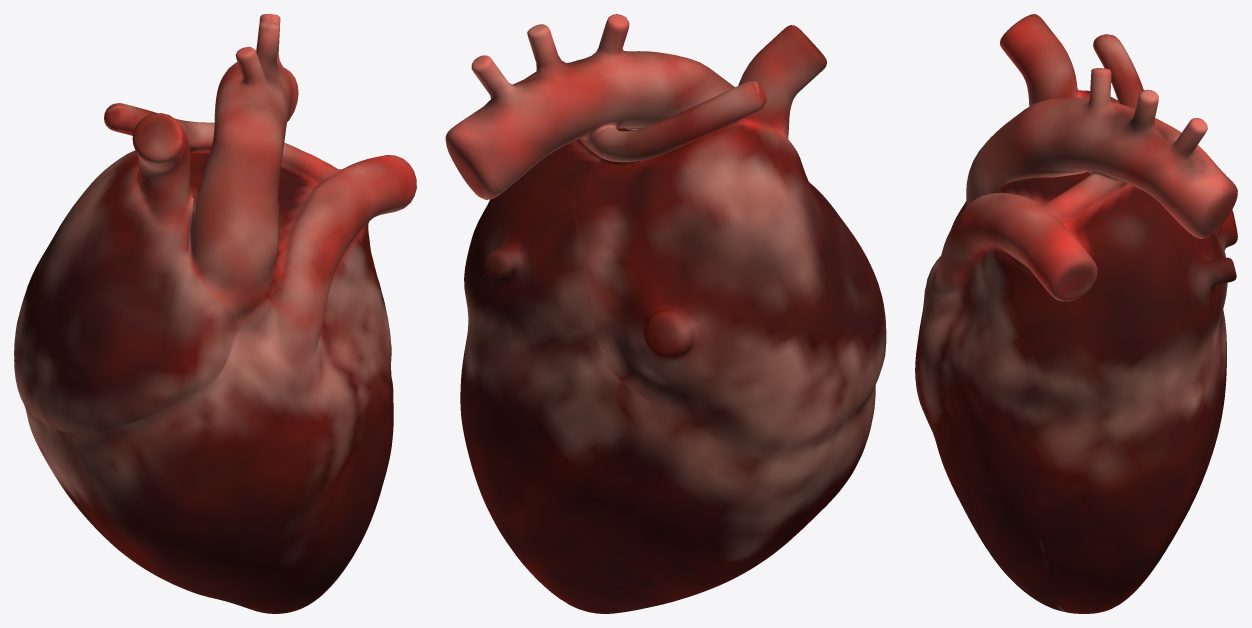
File: realistic_human_heart.glb
The picture shows the model from 3 angles, left to right: view 1: azimuth 30°, elevation 25°; view 2: azimuth 150°, elevation 25°; view 3: azimuth 270°, elevation 25°; orthographic projection. The views are drawn at different scales.
Parts seen in each view (by area): view 1: hart:ZBrush_defualt_group_Heart Tex_0; view 2: hart:ZBrush_defualt_group_Heart Tex_0; view 3: hart:ZBrush_defualt_group_Heart Tex_0.
Boxes of the visible parts, <box> form: hart:ZBrush_defualt_group_Heart Tex_0: <box>14,14,416,613</box>; hart:ZBrush_defualt_group_Heart Tex_0: <box>445,14,886,613</box>; hart:ZBrush_defualt_group_Heart Tex_0: <box>915,14,1237,613</box>.
Bounding box in the file's own units: 1.08 × 1.6 × 0.8801.
1 material, 1 textured.
